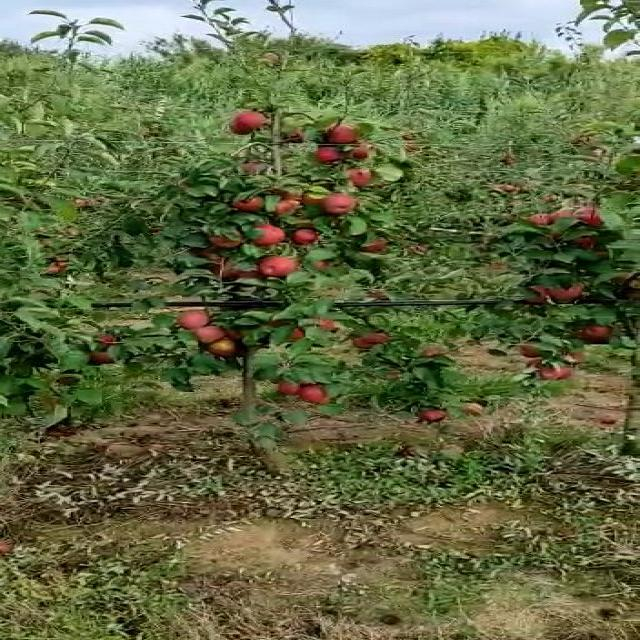100-_ripeness: (318, 123, 366, 147), (226, 111, 266, 136), (542, 284, 589, 305), (534, 362, 572, 384), (254, 255, 294, 275), (576, 324, 613, 344), (249, 228, 287, 246), (516, 284, 554, 302), (513, 340, 549, 357), (205, 340, 240, 357), (196, 324, 224, 343), (533, 211, 565, 227), (306, 385, 336, 402), (173, 312, 209, 326), (271, 379, 302, 395), (322, 195, 351, 212), (351, 332, 378, 350), (238, 196, 269, 211), (202, 236, 240, 248), (314, 148, 346, 162), (362, 238, 391, 252), (347, 148, 369, 164), (266, 199, 289, 214), (92, 352, 112, 366), (298, 231, 318, 243)
